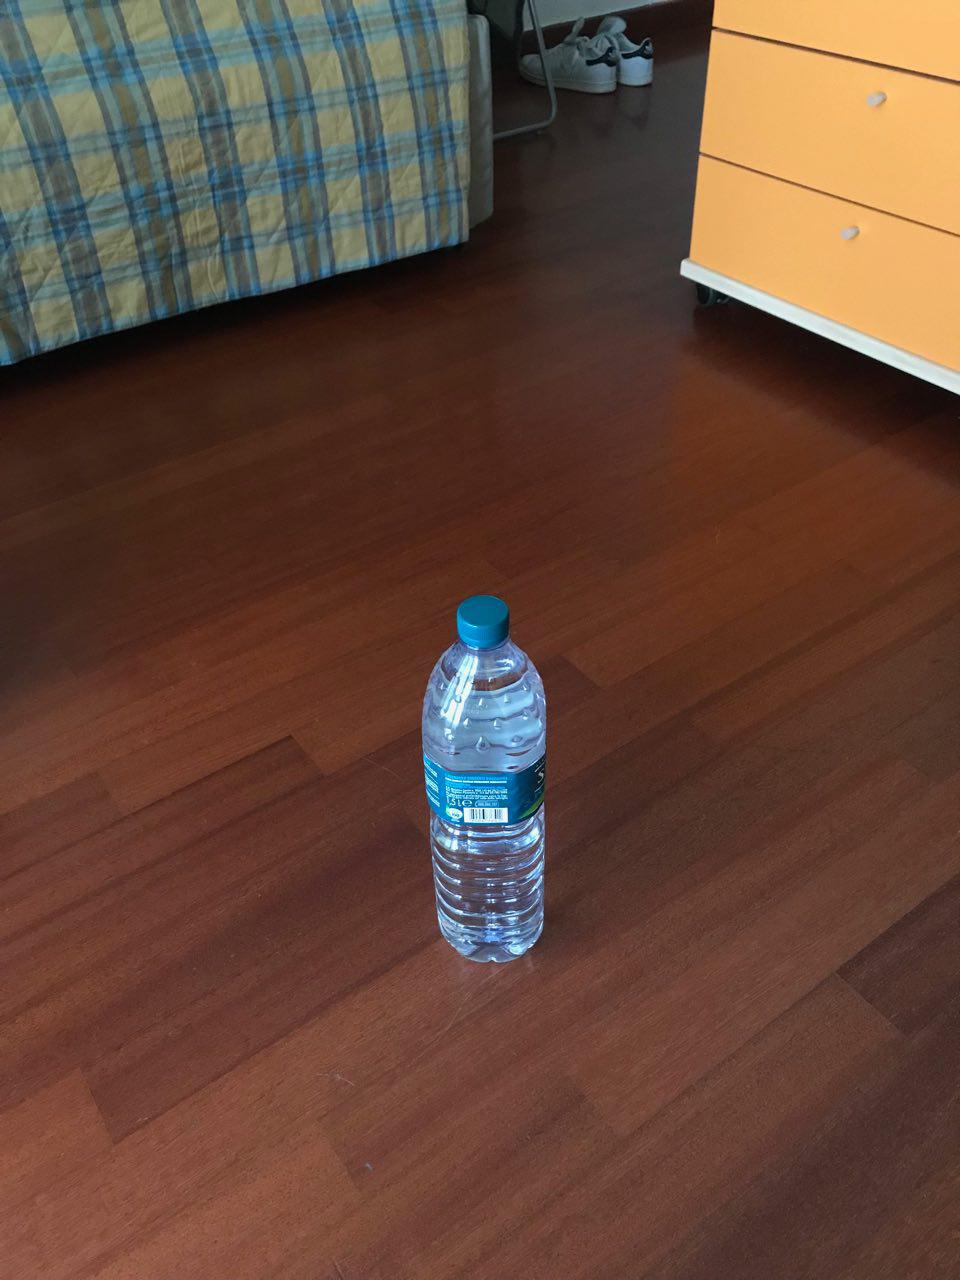san_bernardo: (419, 593, 548, 963)
